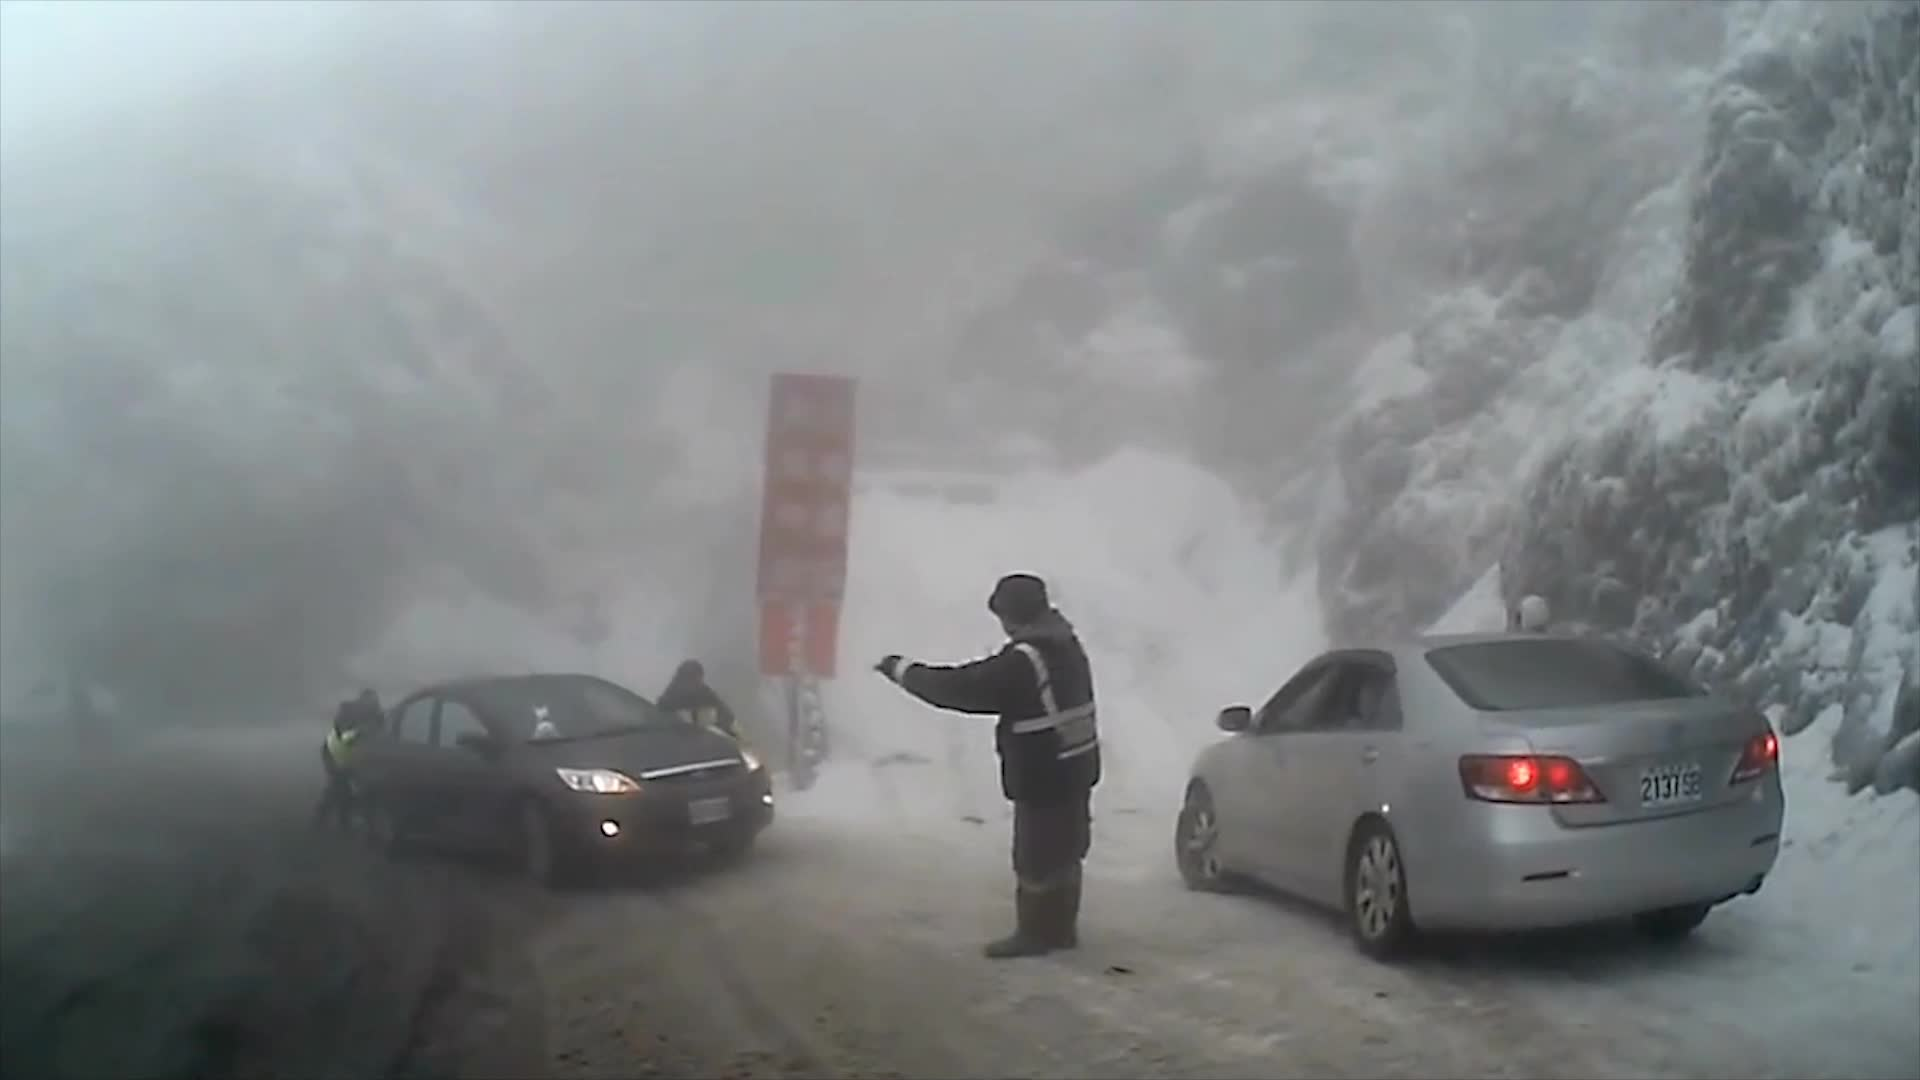pedestrian: (867, 576, 1099, 966), (1482, 595, 1574, 830), (660, 661, 741, 808), (317, 704, 384, 838)
vehicle: (1175, 633, 1784, 964), (343, 674, 775, 892)
